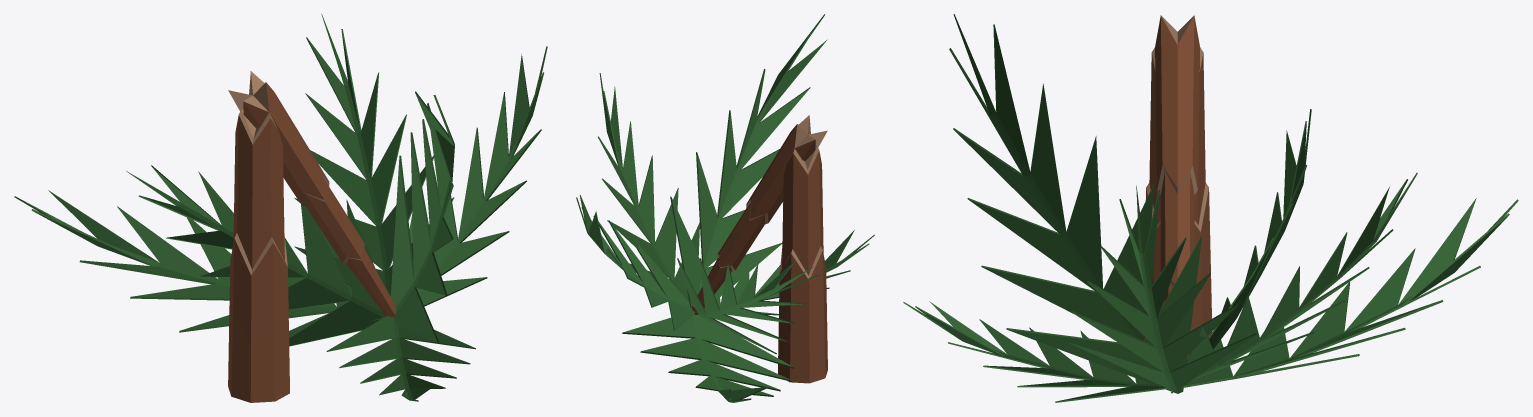
The model's file is palmera_rota.fbx.
3 views of the same model, side by side, from view 1: azimuth 30°, elevation 25°; view 2: azimuth 150°, elevation 25°; view 3: azimuth 270°, elevation 25° (orthographic). The views are drawn at different scales.
Parts seen in each view (by area): view 1: palmerta_rota; view 2: palmerta_rota; view 3: palmerta_rota.
Boxes of the visible parts, <box> form: palmerta_rota: <box>14,14,547,402</box>; palmerta_rota: <box>576,14,874,402</box>; palmerta_rota: <box>903,14,1518,402</box>.
Size of the model in its own units: 3.01 by 2.79 by 4.01.
